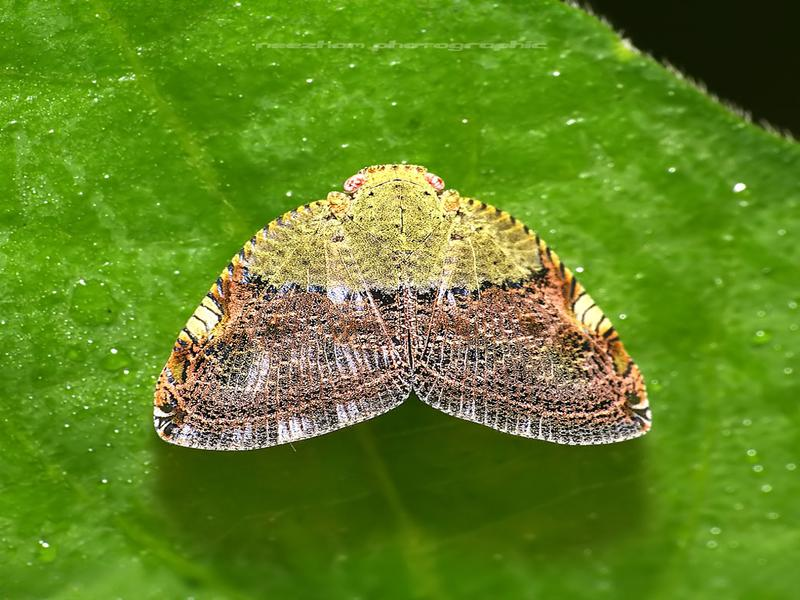White_backed_plant_hopper: (144, 156, 674, 464)
